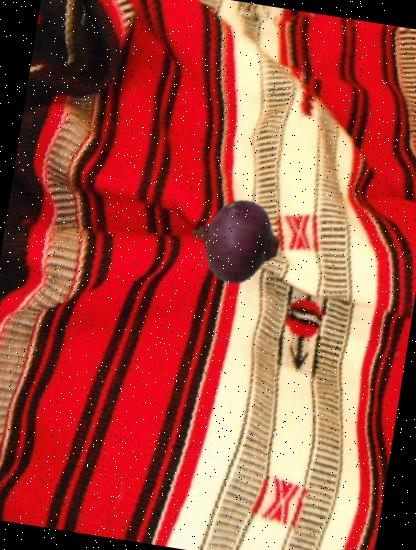Onion: (184, 190, 286, 292)
